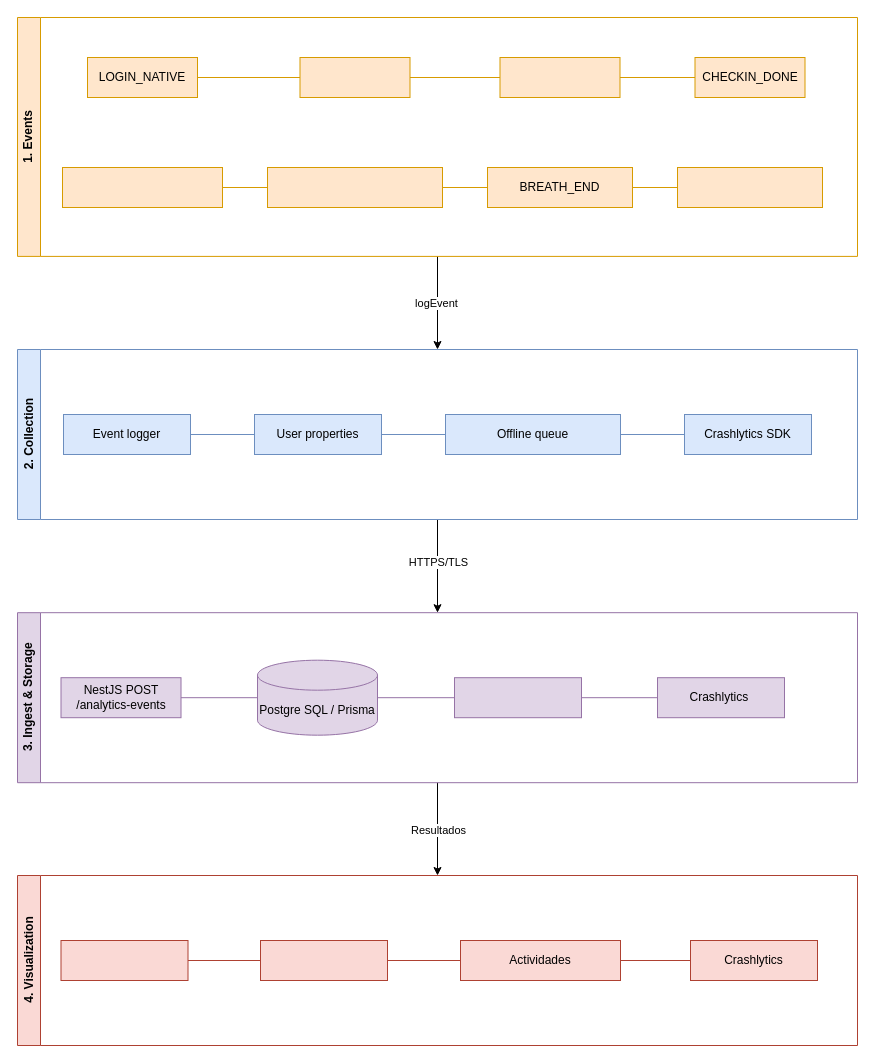
Some shapes in this 875 by 1063 pixel diagram are drawn without their labels. Each missing label, with the centre of its shape:
ACTIVITY_PICK: (142,187)
BREATH_START: (354,187)
Check-ins por día: (124,960)
Consultas BQ: (518,697)
LLOGIN_GOOGLE: (354,77)
LOGIN_GUEST: (559,77)
MOVE_BREAK: (749,187)
Respiración/sem: (324,960)
